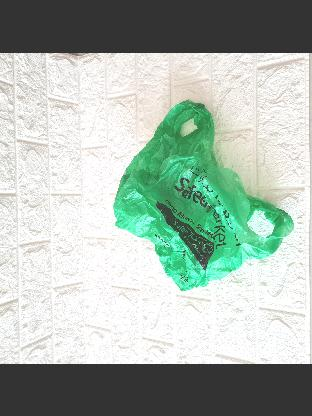Others: (115, 101, 294, 285)
